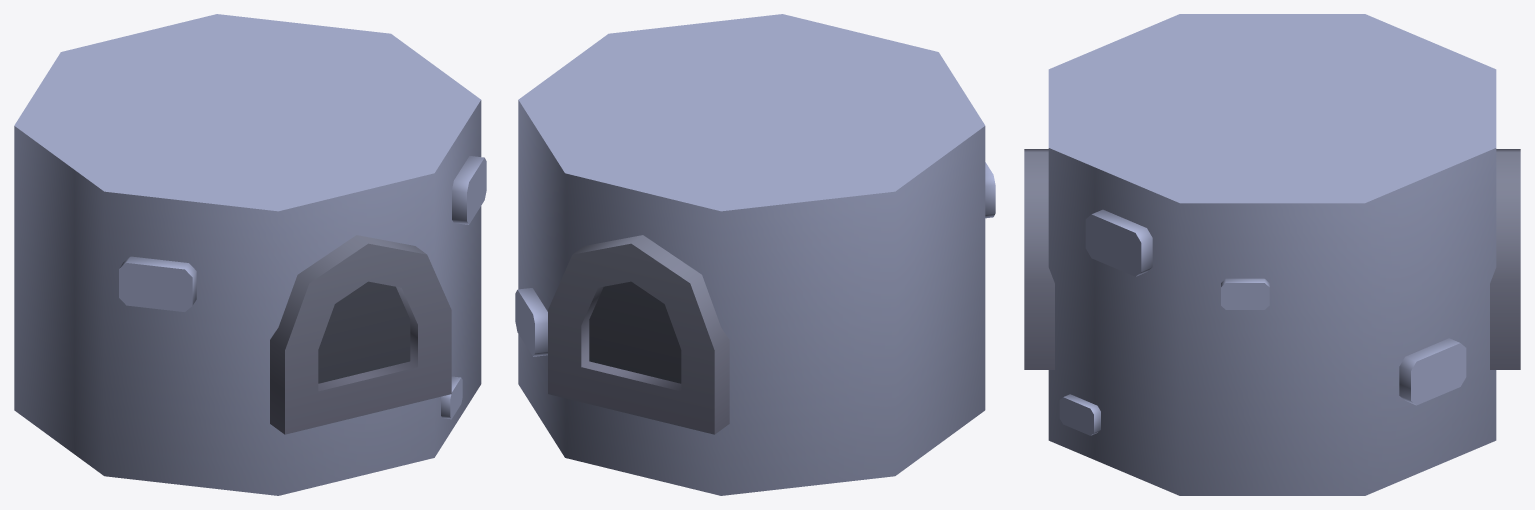
File: pk_tower-middle-windows.glb
The picture shows the model from 3 angles, left to right: view 1: azimuth 30°, elevation 25°; view 2: azimuth 150°, elevation 25°; view 3: azimuth 270°, elevation 25°; orthographic projection. The views are drawn at different scales.
Visible parts, largest first — view 1: tower-middle-windows; view 2: tower-middle-windows; view 3: tower-middle-windows.
Part boxes in pixels (box(x1,y1,x2,y2)): tower-middle-windows: box(14, 14, 486, 495); tower-middle-windows: box(515, 14, 995, 495); tower-middle-windows: box(1024, 14, 1520, 495).
Bounding box in the file's own units: 2.83 × 2 × 3.07.
Materials: 1 (1 with a texture image).
